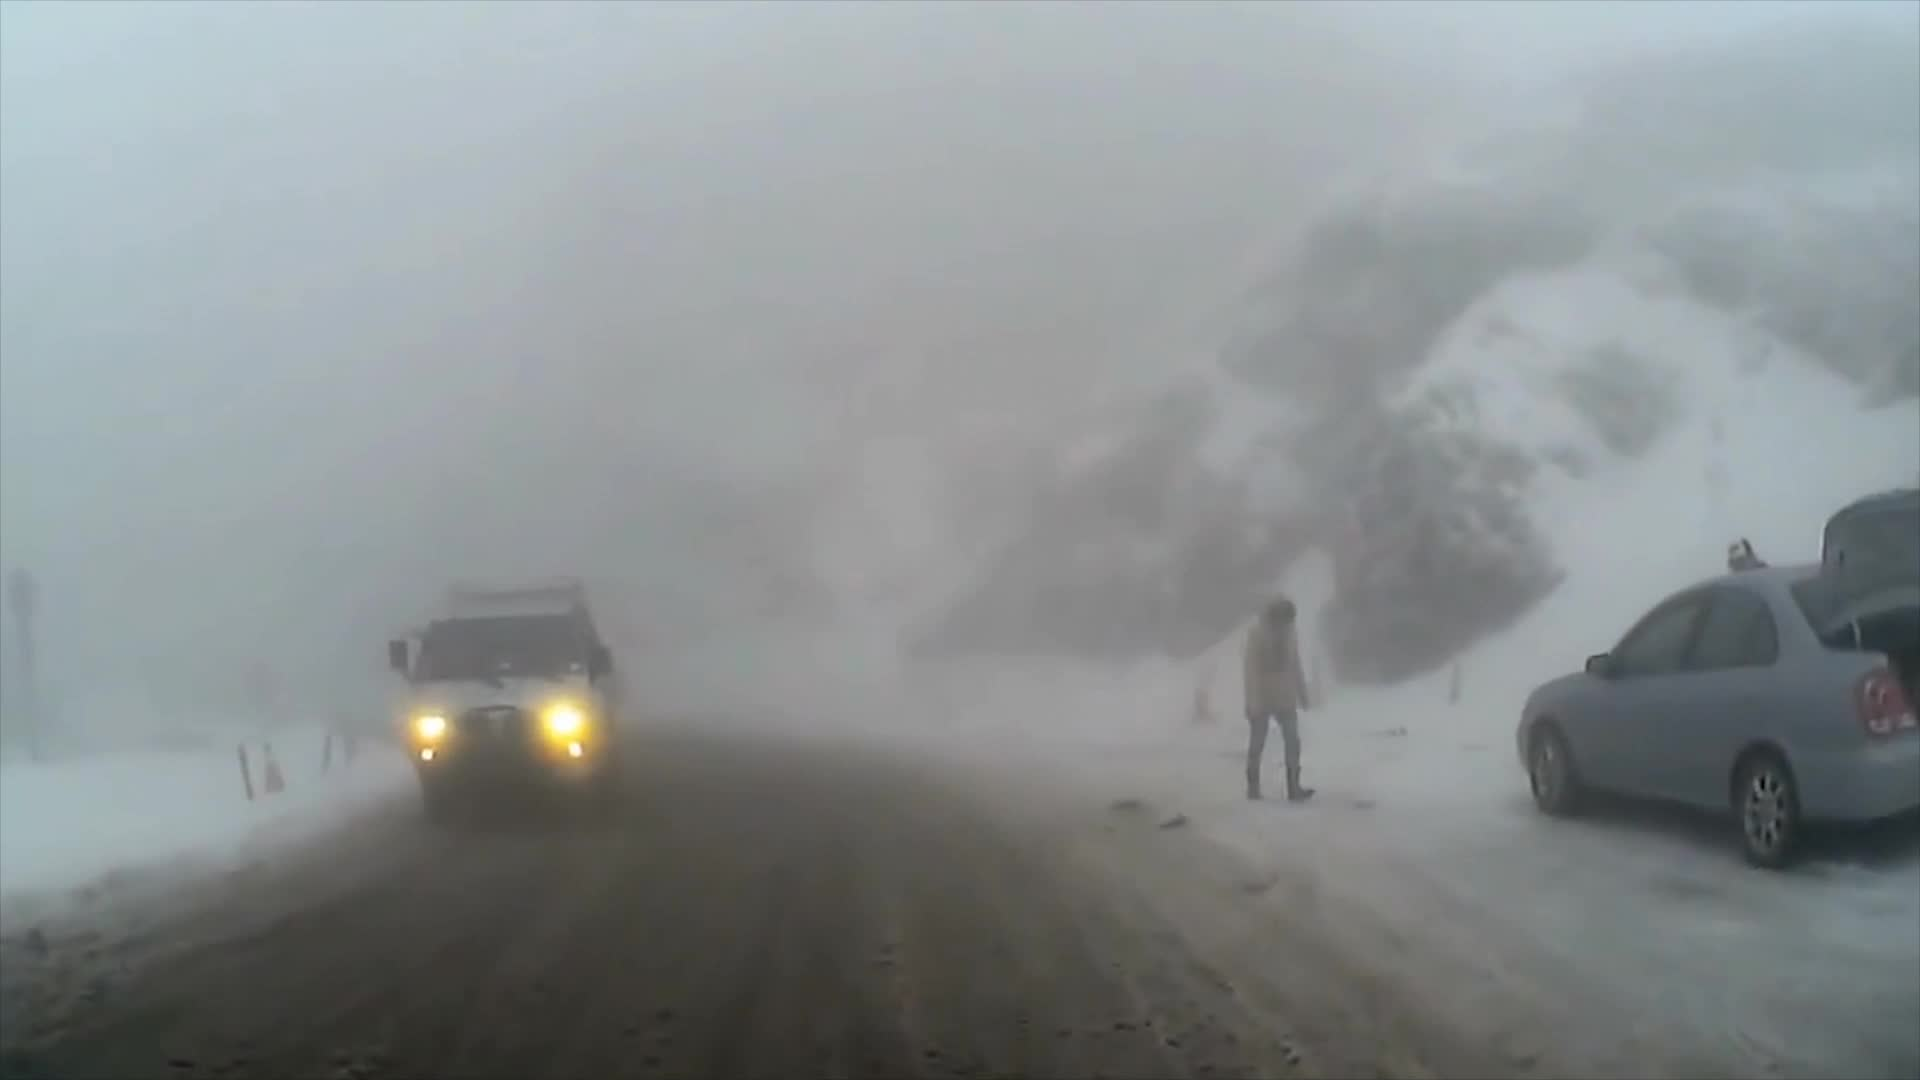pedestrian: (1239, 587, 1311, 802)
vehicle: (1513, 484, 1920, 872), (384, 581, 618, 833)
